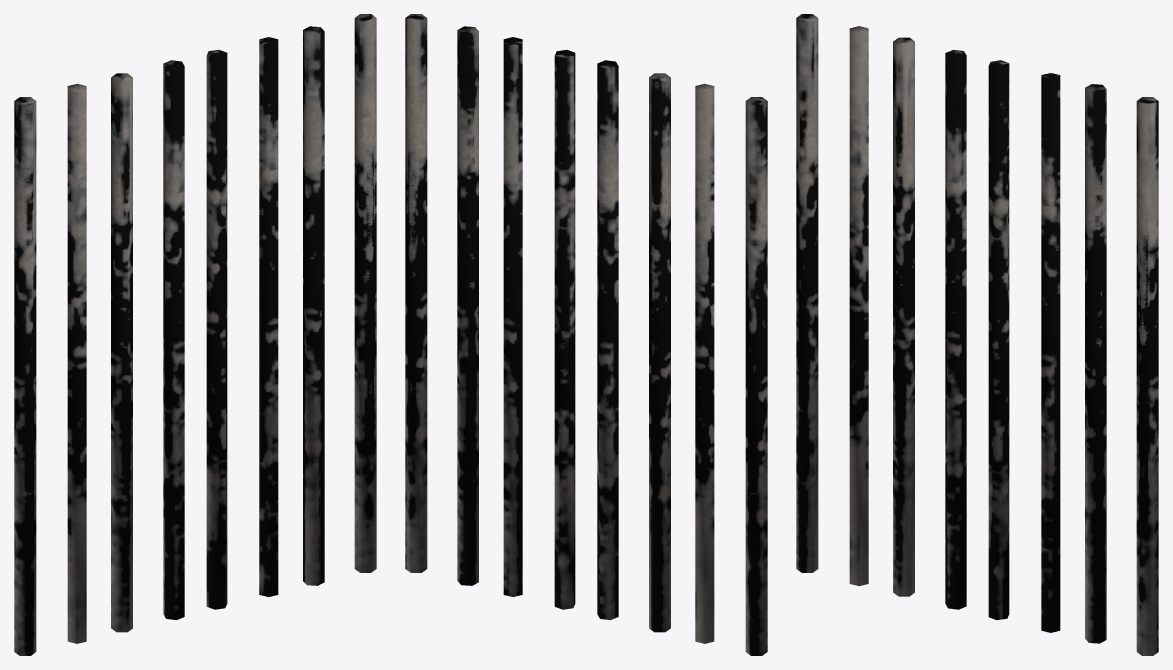
File: fierro.glb
3 views of the same model, side by side, from view 1: azimuth 30°, elevation 25°; view 2: azimuth 150°, elevation 25°; view 3: azimuth 330°, elevation 25° (orthographic).
Parts seen in each view (by area): view 1: Cylinder; view 2: Cylinder; view 3: Cylinder.
Part boxes in pixels (box(x1,y1,x2,y2)): Cylinder: box(14, 14, 376, 655); Cylinder: box(405, 14, 767, 655); Cylinder: box(796, 14, 1158, 655).
Size of the model in its own units: 1.53 by 2.25 by 0.0816.
Materials: 1 (1 with a texture image).
